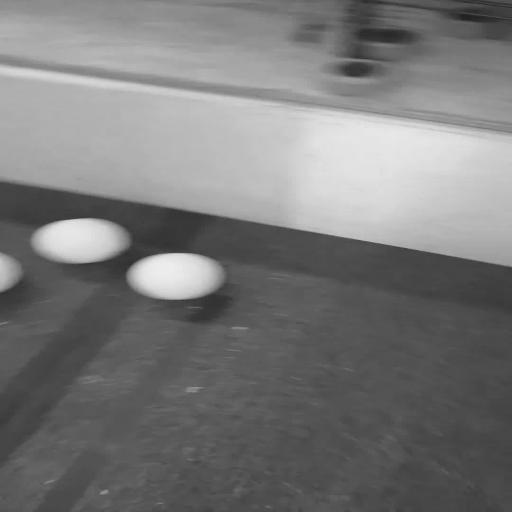fuel: (31, 218, 131, 264), (127, 253, 225, 299), (0, 252, 23, 293)
